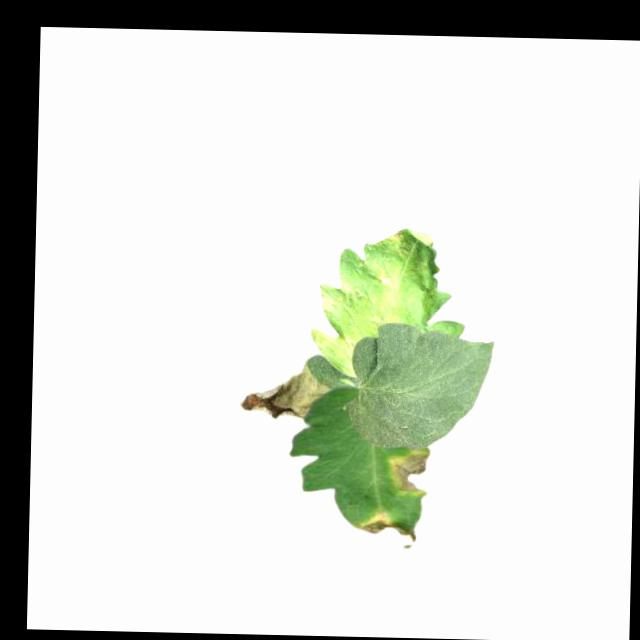Late_blight: (237, 359, 332, 421), (359, 509, 419, 548), (386, 448, 434, 496), (386, 228, 412, 258), (373, 266, 397, 292)
healthy: (350, 322, 496, 451)
